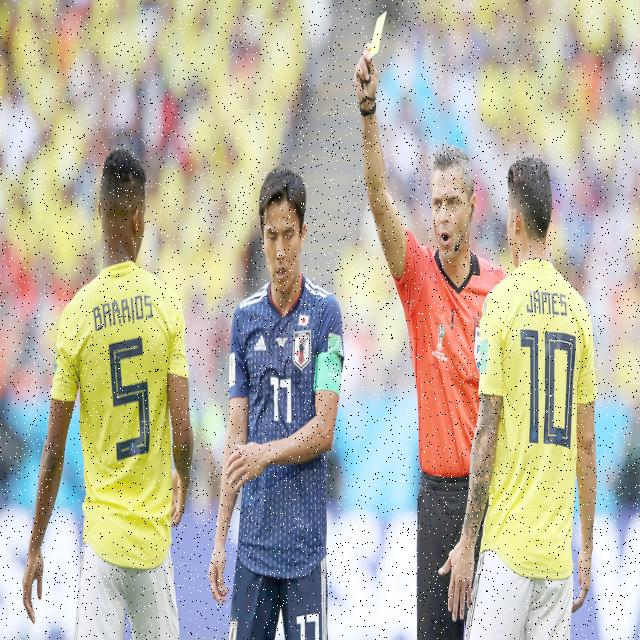yellow-card: (350, 9, 387, 121)
